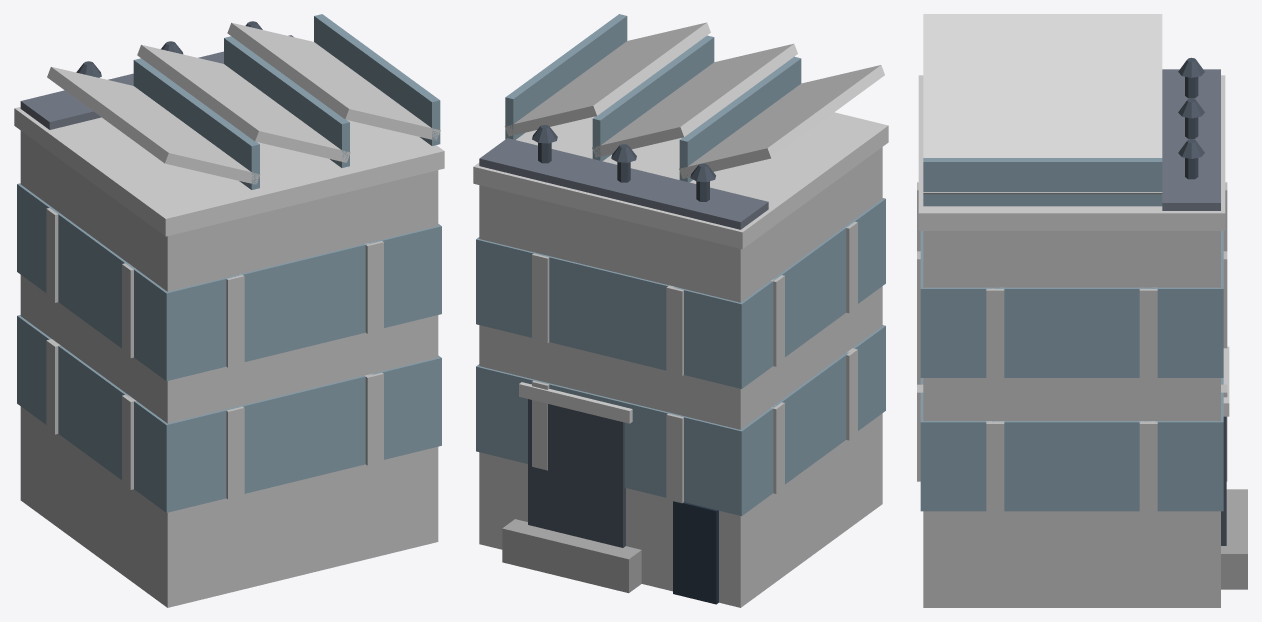
The model's file is building_small_warehouse.glb.
The picture shows the model from 3 angles, left to right: view 1: azimuth 30°, elevation 25°; view 2: azimuth 150°, elevation 25°; view 3: azimuth 270°, elevation 25°; orthographic projection. The views are drawn at different scales.
Visible parts, largest first — view 1: building_small_warehouse; view 2: building_small_warehouse; view 3: building_small_warehouse.
Boxes of the visible parts, <box> form: building_small_warehouse: <box>14,14,444,607</box>; building_small_warehouse: <box>473,14,888,607</box>; building_small_warehouse: <box>917,14,1247,607</box>.
Bounding box in the file's own units: 7.14 × 11 × 7.16.
